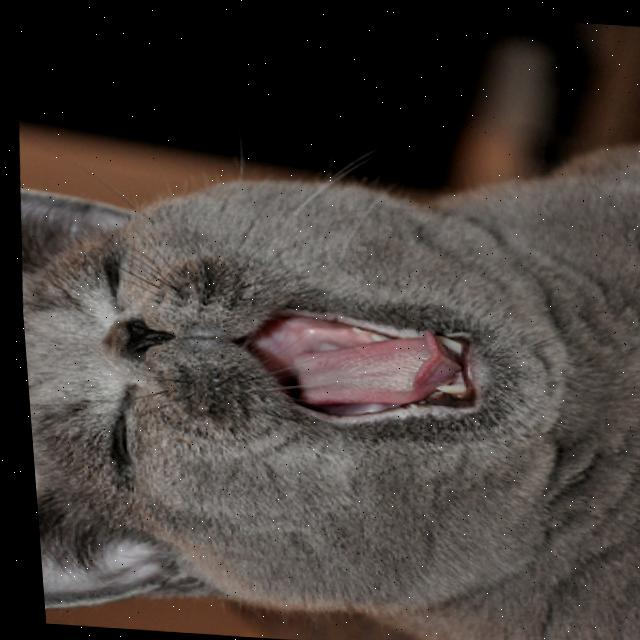British Shorthair: (4, 72, 640, 640)
